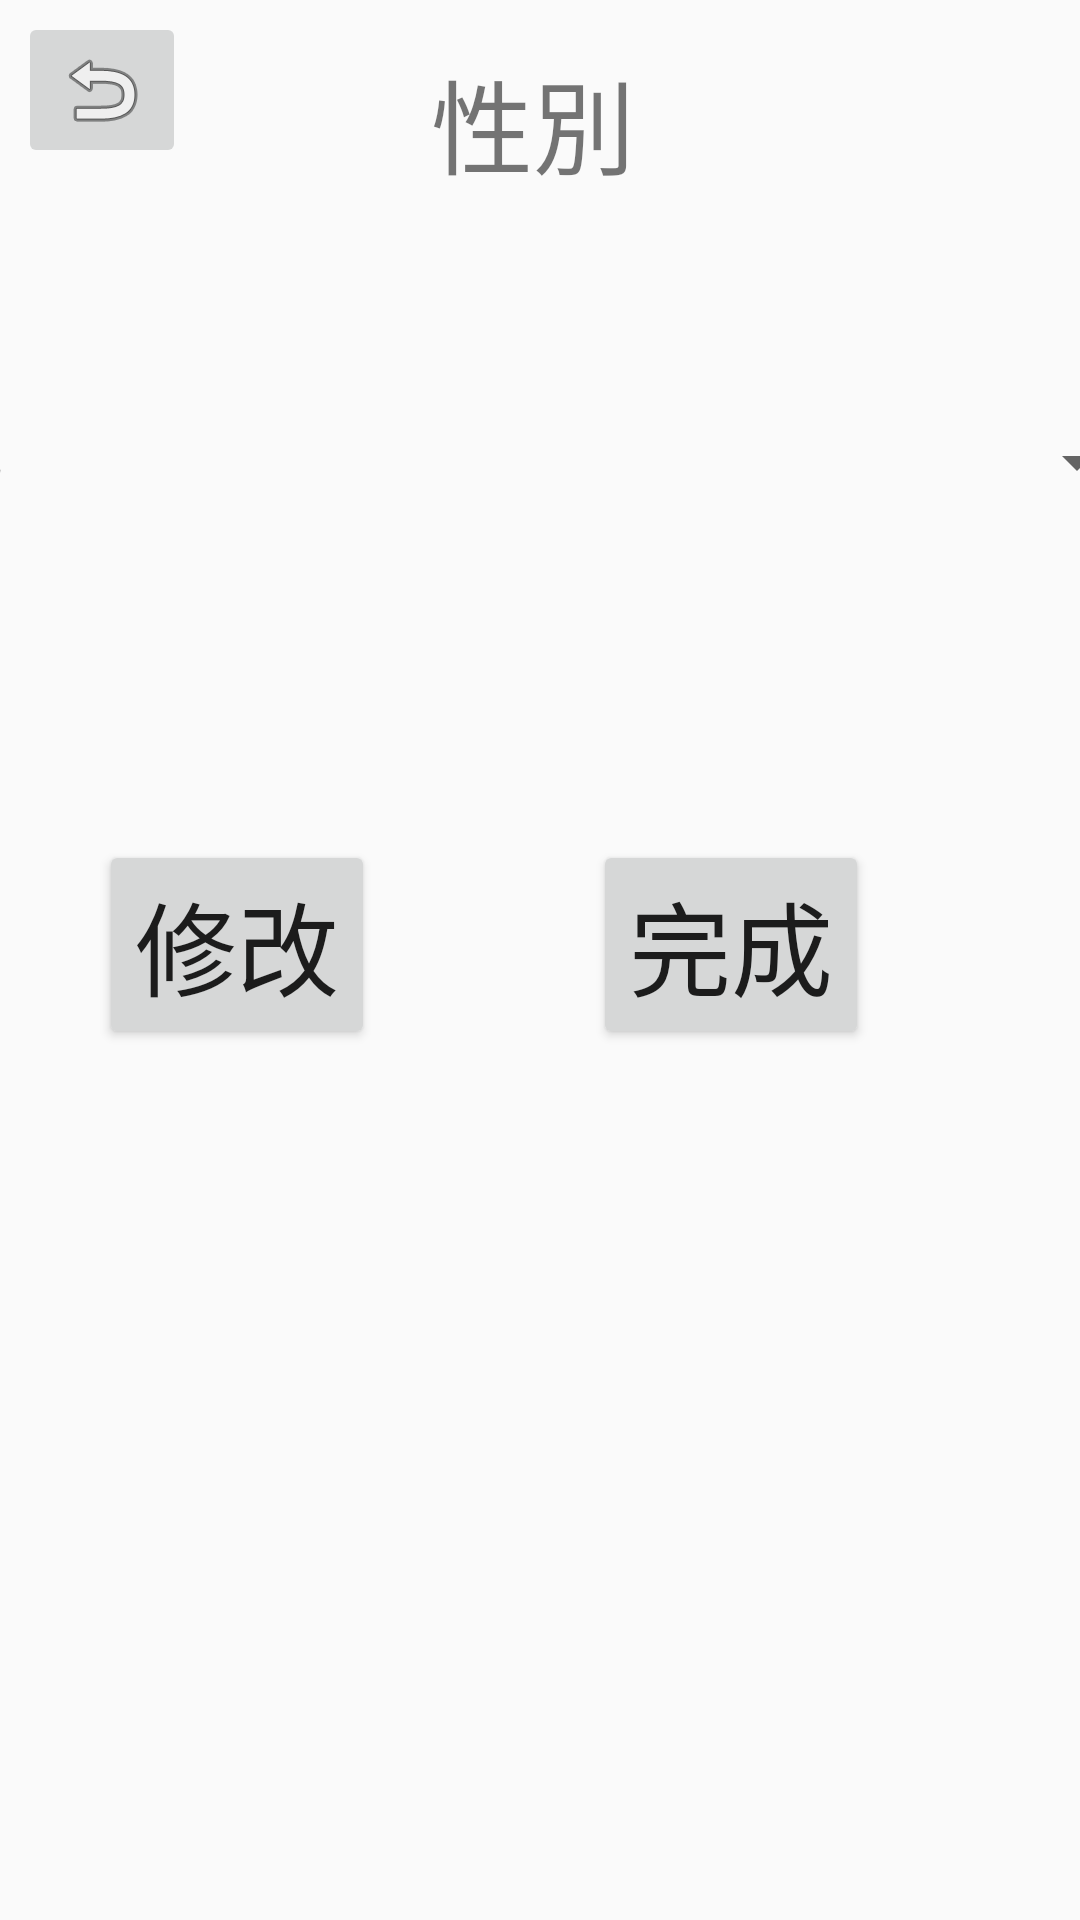

Named icons in this screenshot (1080*1920) and their bounding boxes, (x1, y1, x2, y2):
revert: (30, 30, 174, 150)
